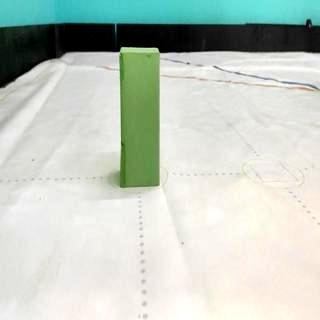greenbox: (118, 45, 160, 190)
